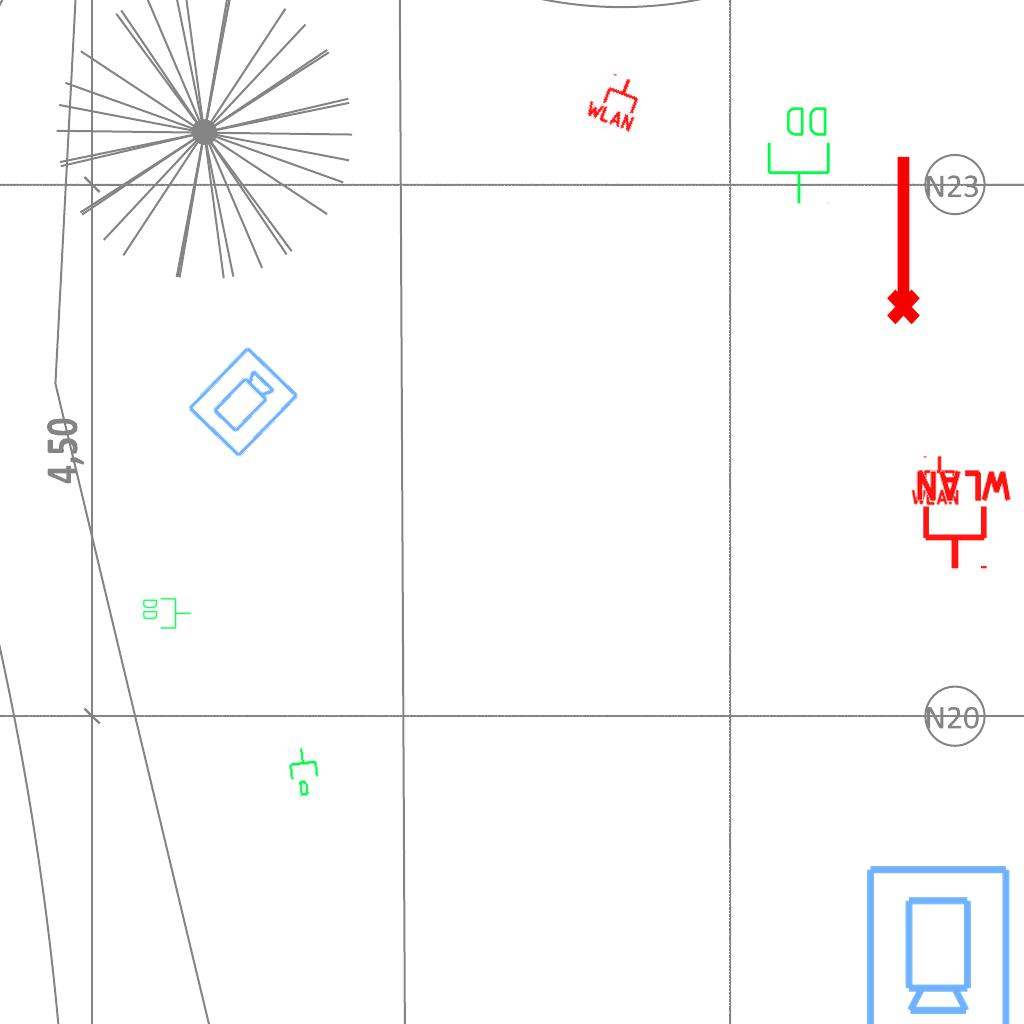ASR_Ansaugoeffnung: (878, 151, 924, 327)
Datenanschluss_einfach: (285, 745, 325, 799)
Datenanschluss_zweifach: (765, 103, 834, 206), (141, 596, 192, 630)
KFO_Kamera_mit_Festobjektiv: (860, 861, 1014, 1024), (184, 343, 303, 462)
WLAN: (912, 468, 1016, 573), (582, 66, 650, 134), (909, 454, 961, 506)
